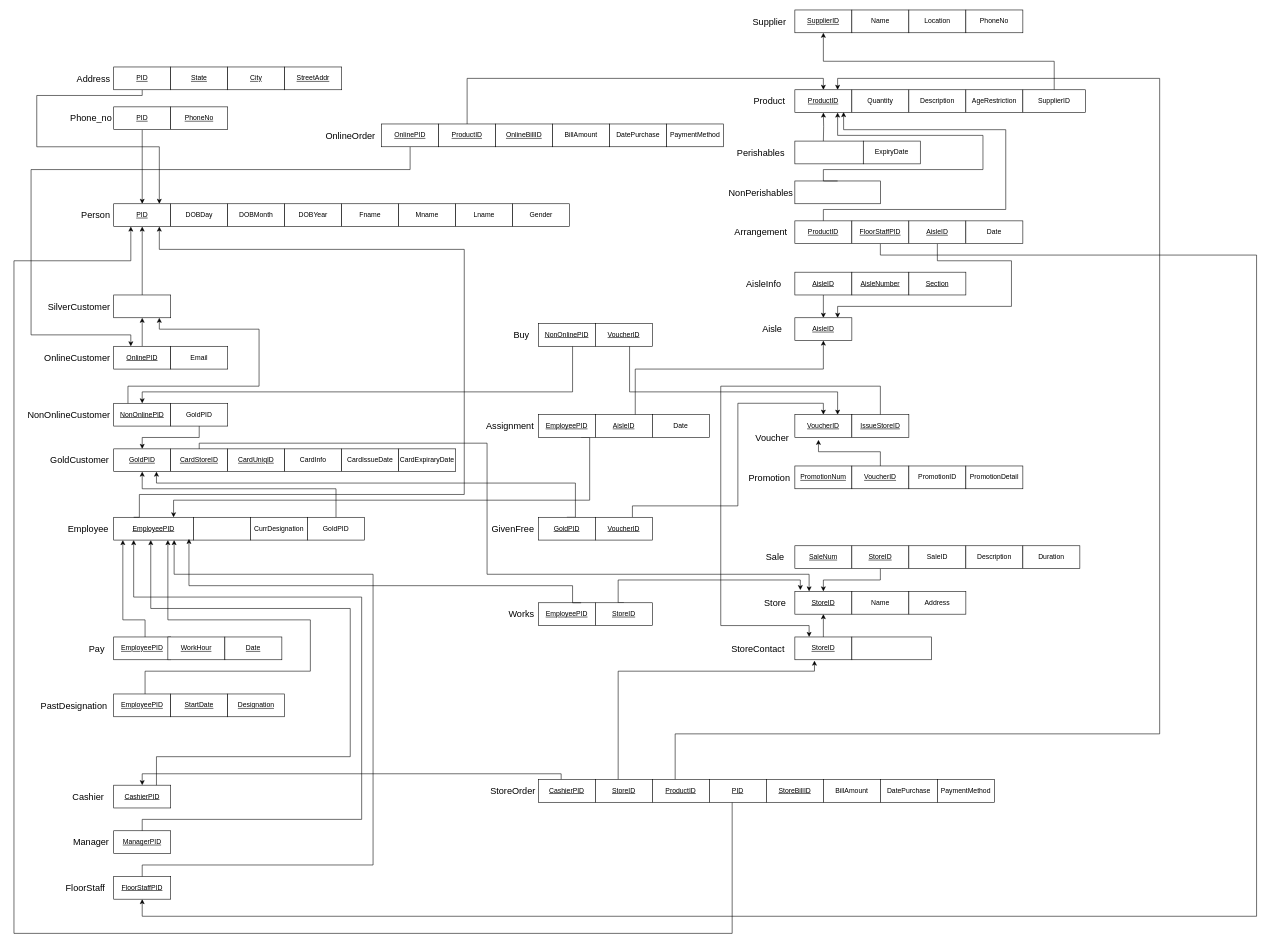
The diagram is 1271 pixels wide and 948 high, and some of its shapes have lost their labels. Here are the shapes that lost their labels. From the top down, the centre of each, then its label:
At (828,152): "PerishableProductID".
At (837,192): "NonPerishableProductID".
At (142,306): "SilverPID".
At (222,528): "CurrStartDate".
At (891,648): "ContactPhoneNumber".
